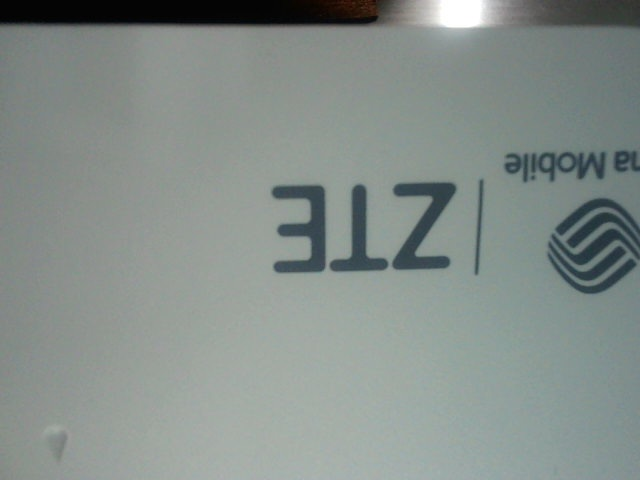AL_ZTEChinaMobile: (264, 135, 639, 297)
